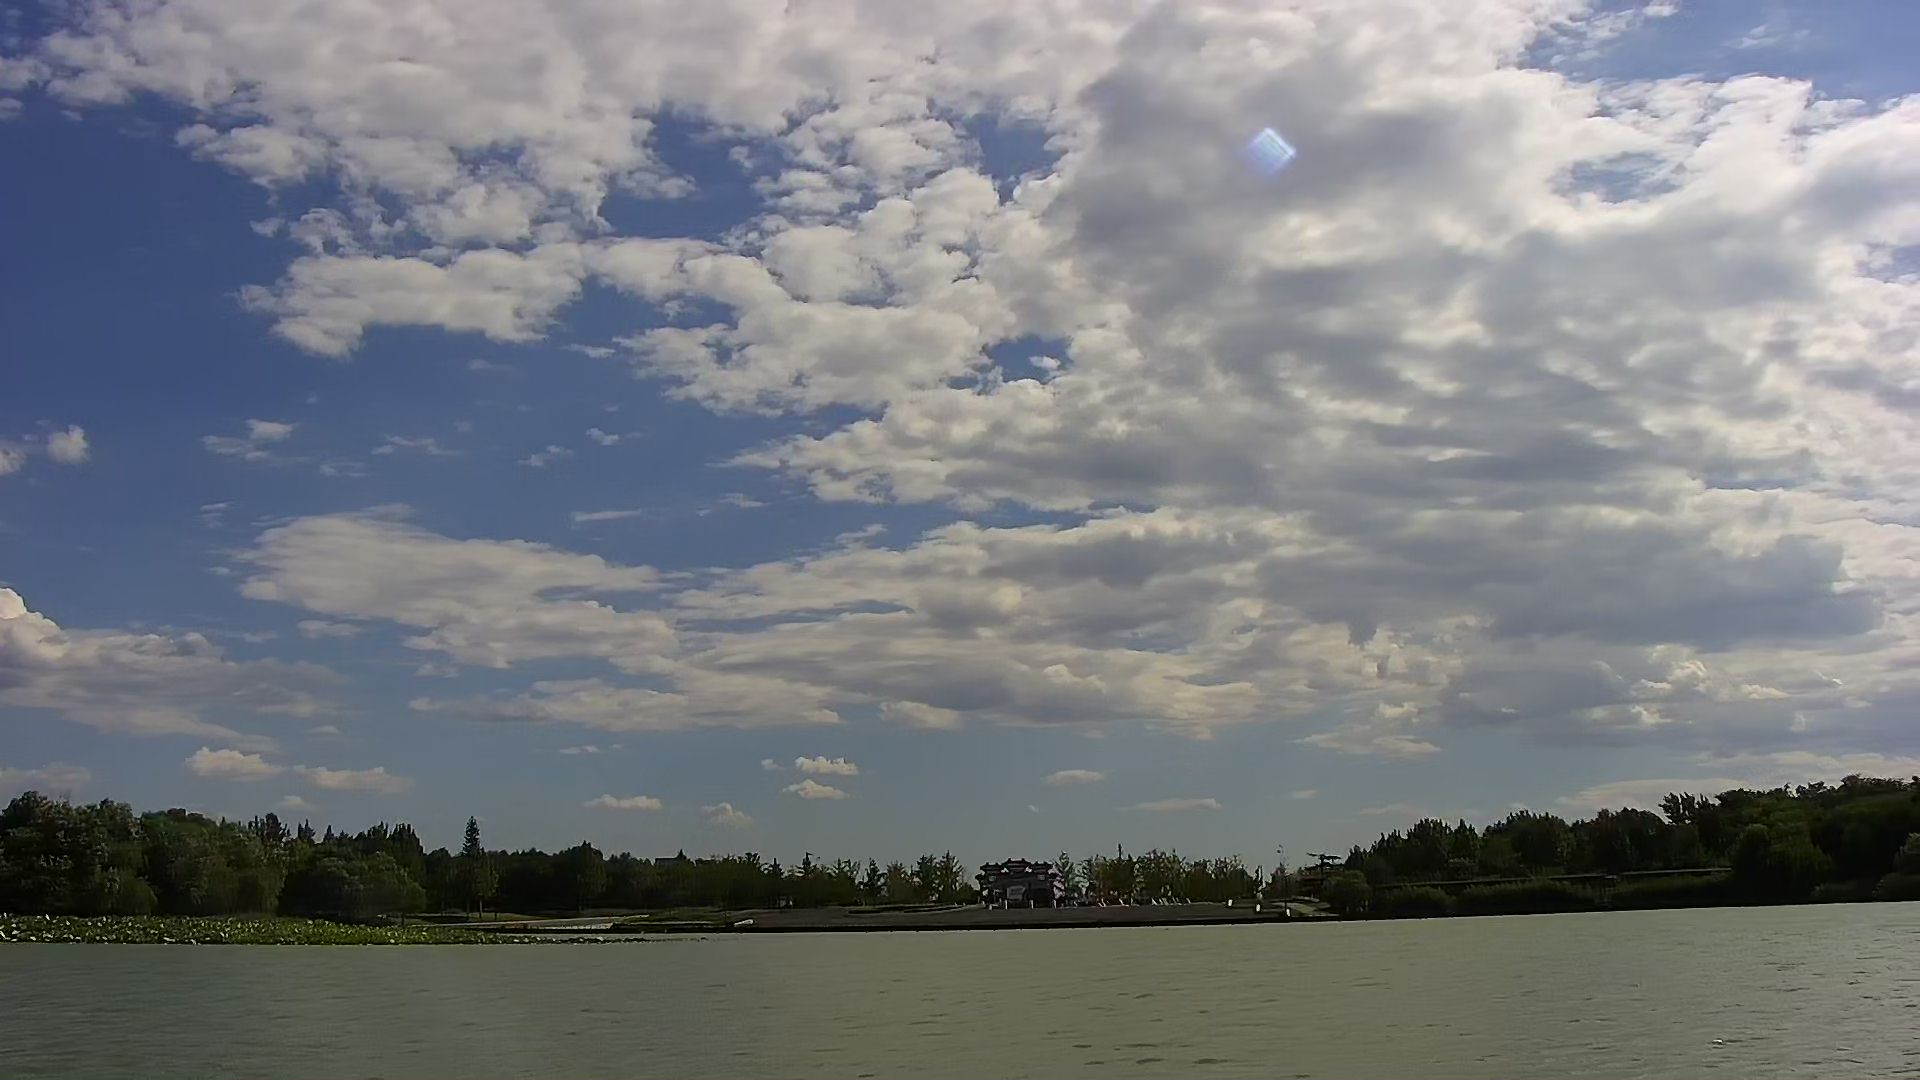harbor: (702, 893, 1399, 935)
